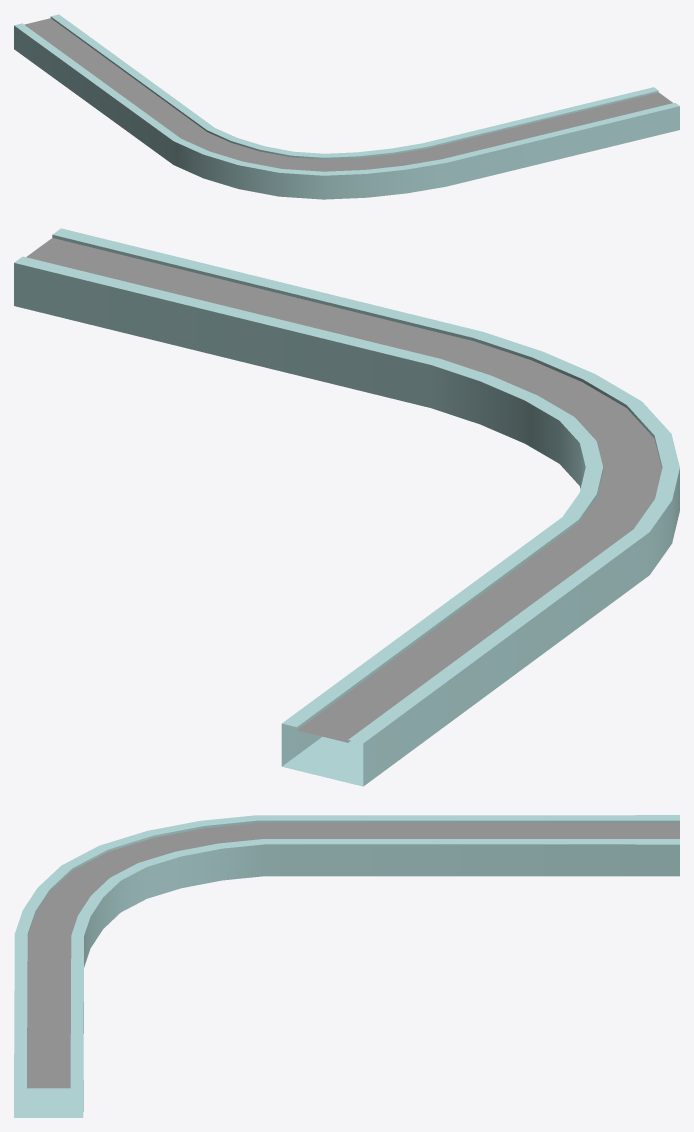
The model's file is left.fbx.
3 views of the same model, one above another, from view 1: azimuth 30°, elevation 25°; view 2: azimuth 150°, elevation 25°; view 3: azimuth 270°, elevation 25° (orthographic). The views are drawn at different scales.
Visible parts, largest first — view 1: left; view 2: left; view 3: left.
Boxes of the visible parts, left/top/right/bottom form: left: left=14, top=14, right=679, bottom=199; left: left=14, top=228, right=679, bottom=786; left: left=14, top=815, right=679, bottom=1117.
Bounding box in the file's own units: 1877 × 104 × 1948.
